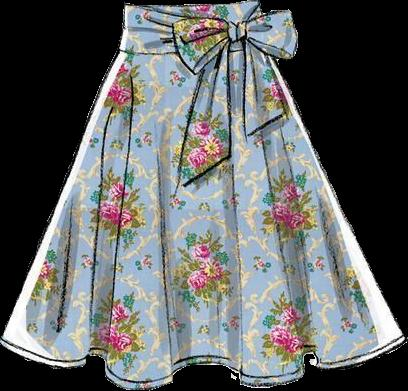Hemline: (0, 336, 407, 390)
Waistline: (124, 1, 260, 24), (116, 43, 267, 58)
